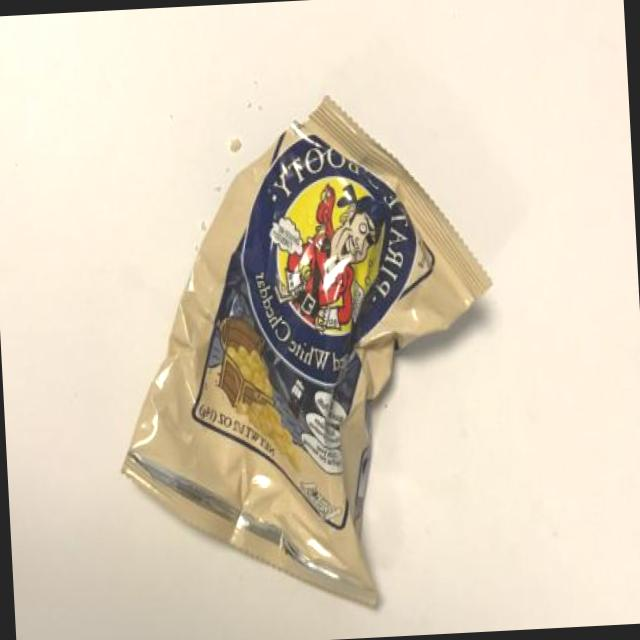giay_goi: (121, 97, 490, 608)
